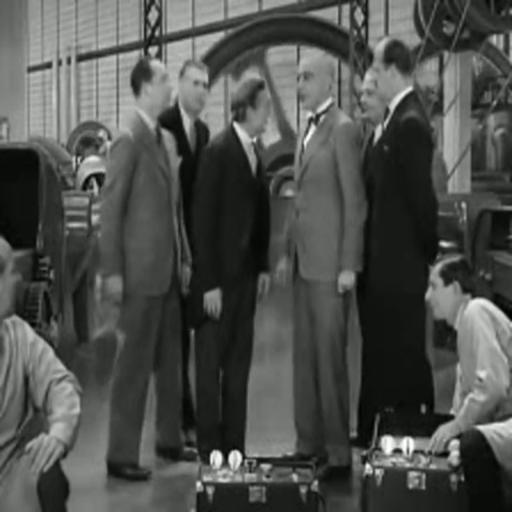nao-violencia: (84, 11, 444, 476)
